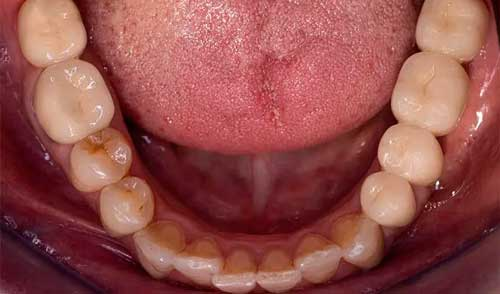LL1BC_healthy: (362, 172, 416, 225)
LL1M_healthy: (394, 57, 466, 126)
LL2BC_healthy: (378, 126, 441, 179)
LL2M_healthy: (422, 3, 483, 52)
LLCI_healthy: (258, 254, 297, 292)
LLC_healthy: (337, 214, 382, 263)
LLLI_healthy: (298, 236, 341, 279)
LR1BC_decay: (101, 176, 152, 230)
LR1M_healthy: (34, 61, 111, 130)
LR2BC_decay: (73, 131, 131, 183)
LR2M_healthy: (20, 2, 82, 61)
LRCI_healthy: (224, 251, 255, 291)
LRC_healthy: (138, 222, 179, 270)
LRLI_healthy: (182, 236, 222, 282)
